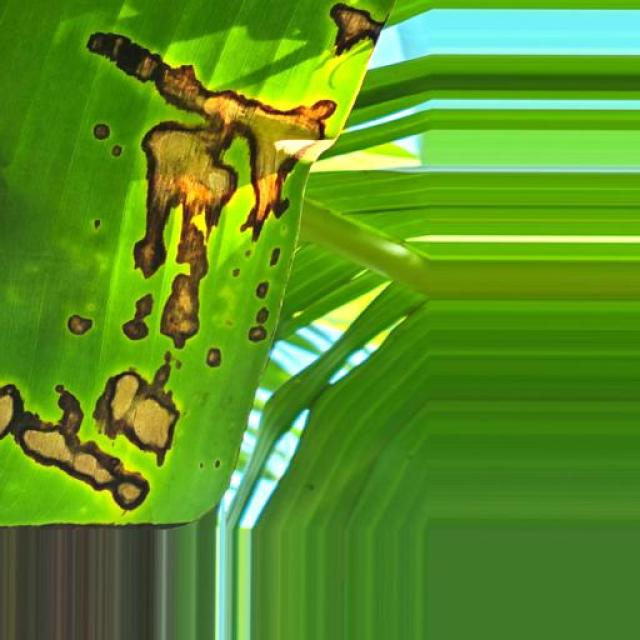Early_rust: (0, 0, 394, 524)
